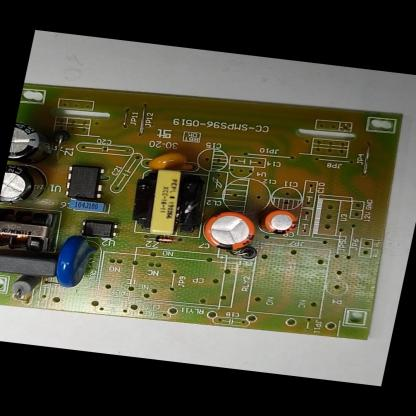Cap1: (199, 209, 263, 254)
Cap2: (260, 208, 302, 236)
Cap3: (0, 162, 50, 208)
Cap4: (7, 120, 56, 166)
MOSFET: (63, 163, 110, 201)
Mov: (51, 233, 100, 291)
Resistor: (6, 274, 44, 302)
Transformer: (124, 164, 212, 238), (0, 206, 59, 256)
